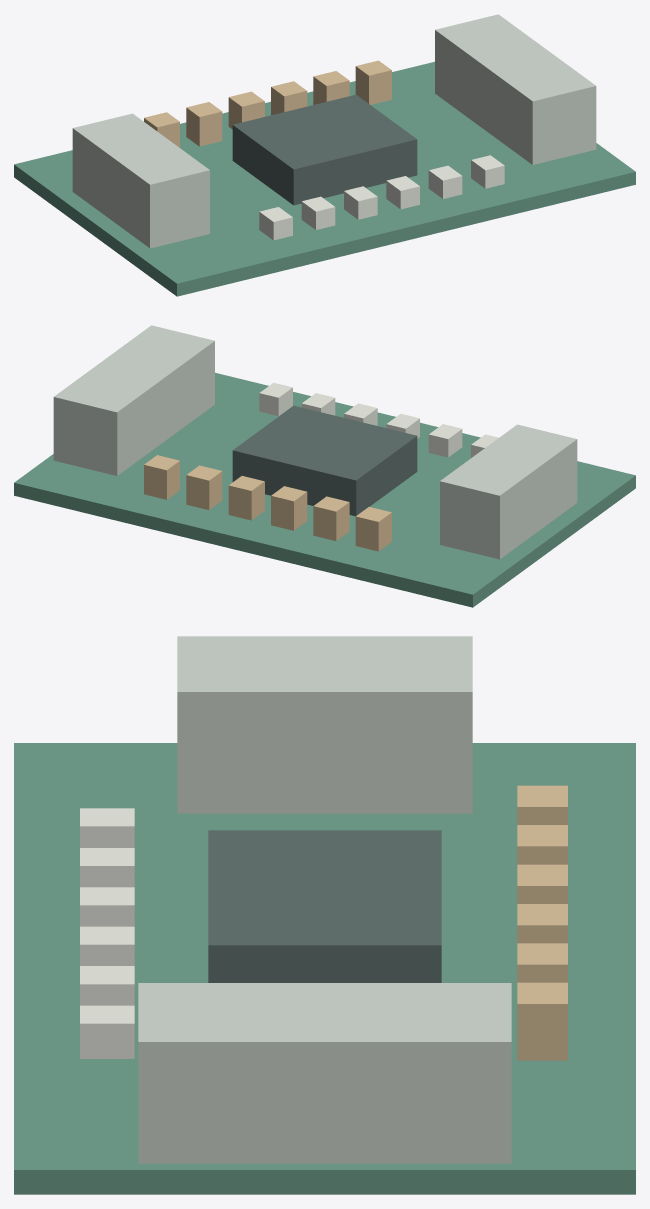
File: ecu-concept.glb
3 views of the same model, one above another, from view 1: azimuth 30°, elevation 25°; view 2: azimuth 150°, elevation 25°; view 3: azimuth 270°, elevation 25° (orthographic). The views are drawn at different scales.
Bounding box in the file's own units: 1.3 × 0.2075 × 0.8.
